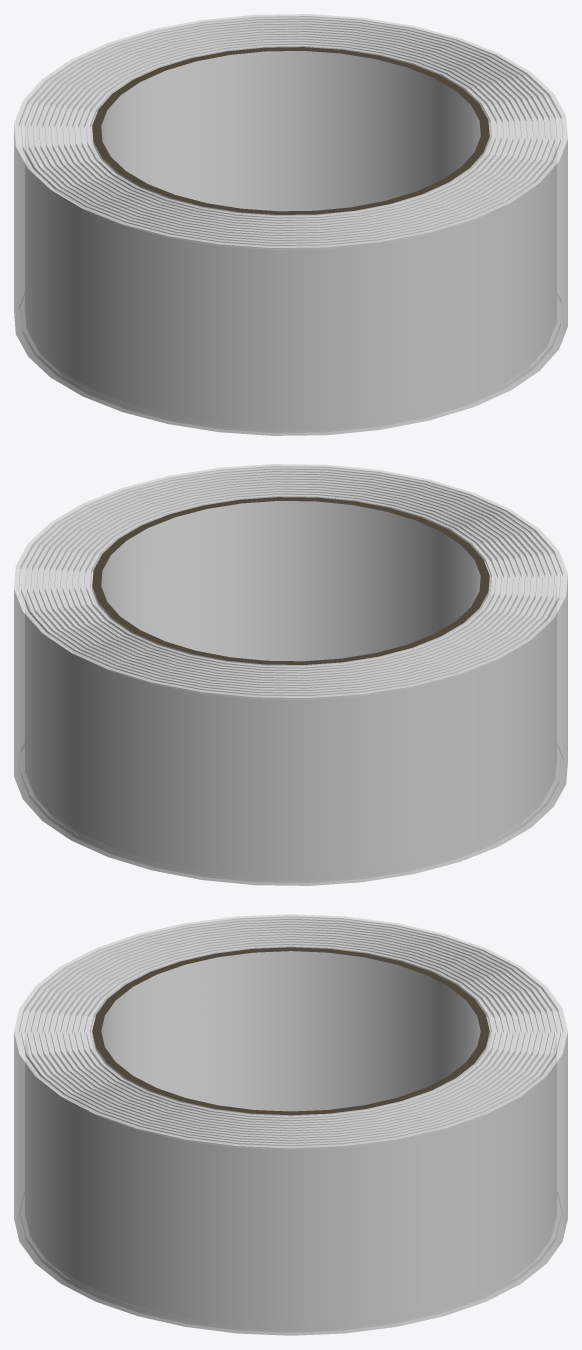
The model's file is cinta.glb.
The picture shows the model from 3 angles, top to bottom: view 1: azimuth 30°, elevation 25°; view 2: azimuth 150°, elevation 25°; view 3: azimuth 270°, elevation 25°; orthographic projection.
Parts seen in each view (by area): view 1: cinta; view 2: cinta; view 3: cinta.
Part boxes in pixels (bbox=[...]): cinta: bbox=[14, 14, 567, 435]; cinta: bbox=[14, 464, 567, 885]; cinta: bbox=[14, 914, 567, 1335].
Size of the model in its own units: 5.3 by 1.98 by 5.3.
